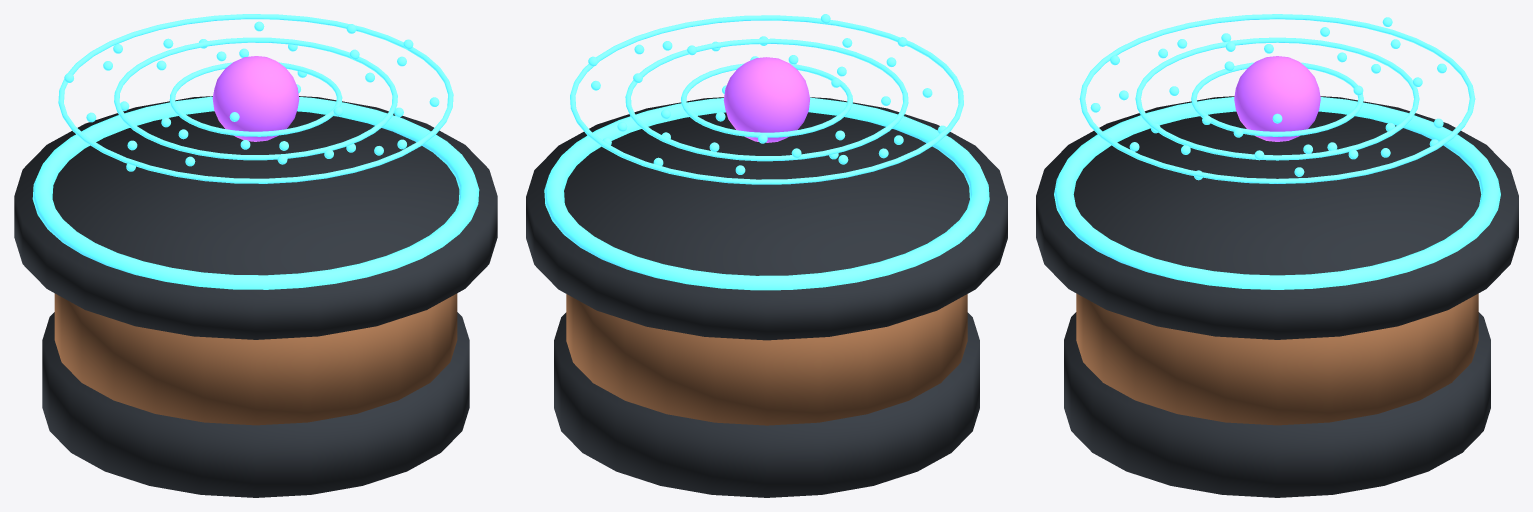
File: holotable.glb
3 renders of one model, left to right at view 1: azimuth 30°, elevation 25°; view 2: azimuth 150°, elevation 25°; view 3: azimuth 270°, elevation 25°, orthographic.
Parts seen in each view (by area): view 1: root_charcoal, root_copper, root_blue, hologram_blue, hologram_purple; view 2: root_charcoal, root_copper, root_blue, hologram_blue, hologram_purple; view 3: root_charcoal, root_copper, root_blue, hologram_blue, hologram_purple.
Part boxes in pixels (x1=…): root_charcoal: x1=14, y1=96, x2=497, y2=497; root_copper: x1=54, y1=293, x2=457, y2=425; root_blue: x1=32, y1=96, x2=479, y2=289; hologram_blue: x1=58, y1=14, x2=453, y2=183; hologram_purple: x1=212, y1=56, x2=299, y2=141; root_charcoal: x1=526, y1=97, x2=1007, y2=497; root_copper: x1=566, y1=294, x2=967, y2=425; root_blue: x1=544, y1=97, x2=989, y2=290; hologram_blue: x1=570, y1=14, x2=963, y2=184; hologram_purple: x1=723, y1=57, x2=810, y2=142; root_charcoal: x1=1036, y1=96, x2=1518, y2=497; root_copper: x1=1076, y1=293, x2=1478, y2=425; root_blue: x1=1054, y1=97, x2=1500, y2=289; hologram_blue: x1=1079, y1=14, x2=1475, y2=183; hologram_purple: x1=1234, y1=56, x2=1320, y2=141.
Bounding box in the file's own units: 1.56 × 1.24 × 1.56.
